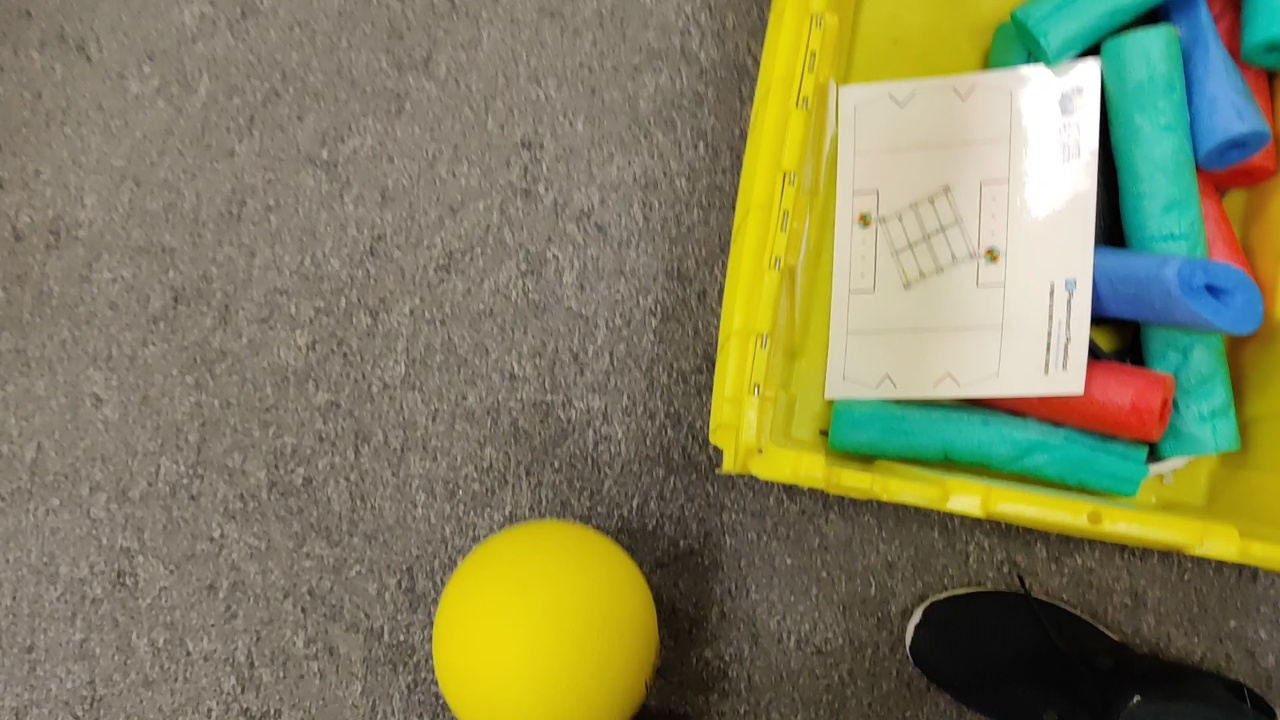Ball: (432, 519, 662, 720)
